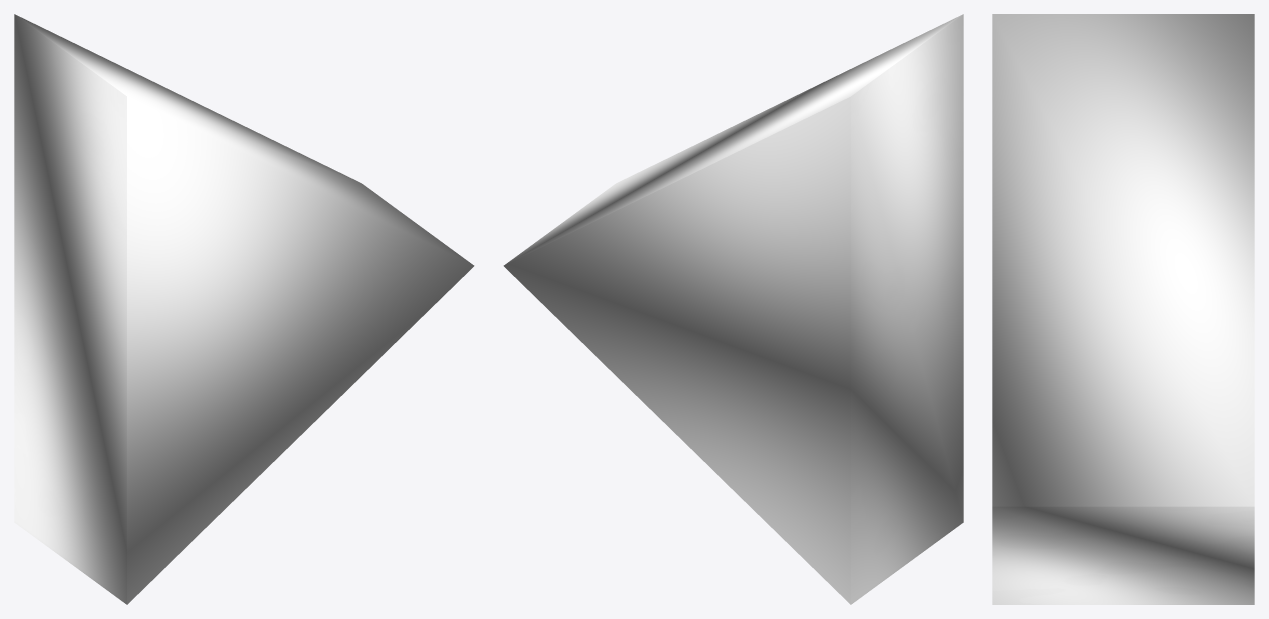
File: Arrow07.fbx
3 renders of one model, left to right at view 1: azimuth 30°, elevation 25°; view 2: azimuth 150°, elevation 25°; view 3: azimuth 270°, elevation 25°, orthographic. The views are drawn at different scales.
Visible parts, largest first — view 1: Arrow07; view 2: Arrow07; view 3: Arrow07.
Part boxes in pixels (box(x1,y1,x2,y2)): Arrow07: box(14, 14, 474, 604); Arrow07: box(503, 14, 963, 604); Arrow07: box(992, 14, 1254, 604).
Size of the model in its own units: 3.58 by 5 by 2.01.
